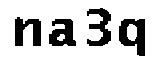3: (82, 4, 114, 51)
a: (46, 14, 76, 52)
n: (9, 15, 43, 51)
q: (118, 15, 153, 60)
